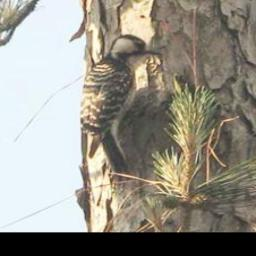Woodpecker: (79, 32, 164, 177)
